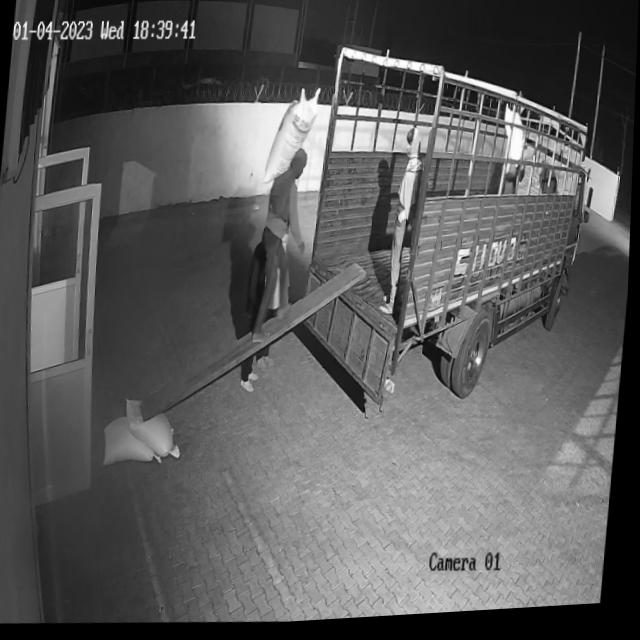sack: (265, 90, 320, 189), (124, 395, 181, 461), (106, 415, 167, 470)
